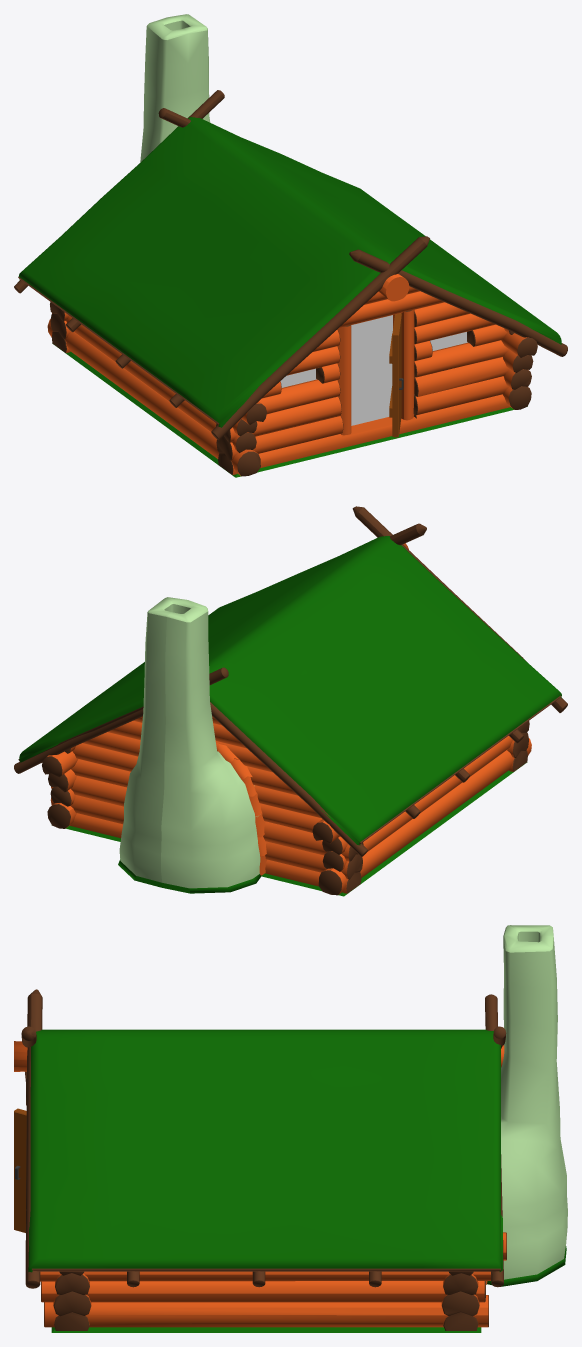
File: izbaa.fbx
3 renders of one model, top to bottom at view 1: azimuth 30°, elevation 25°; view 2: azimuth 150°, elevation 25°; view 3: azimuth 270°, elevation 25°, orthographic. The views are drawn at different scales.
Visible parts, largest first — view 1: roof, wall1, balki, stove, wall3, Plane.002, wall2, дверь.021, wall4; view 2: roof, stove, wall4, wall3, balki, wall2, ceiling, wall1; view 3: roof, wall2, stove, balki, wall4, wall1, ceiling, дверь.021.
Boxes of the visible parts, bbox=[...] form: roof: bbox=[18, 117, 561, 477]; wall1: bbox=[216, 286, 510, 474]; balki: bbox=[14, 90, 567, 440]; stove: bbox=[140, 14, 210, 162]; wall3: bbox=[47, 313, 266, 476]; Plane.002: bbox=[351, 315, 392, 425]; wall2: bbox=[501, 328, 537, 409]; дверь.021: bbox=[389, 313, 403, 437]; wall4: bbox=[50, 274, 409, 352]; roof: bbox=[19, 536, 561, 896]; stove: bbox=[119, 597, 260, 888]; wall4: bbox=[50, 543, 408, 893]; wall3: bbox=[312, 736, 531, 895]; balki: bbox=[14, 506, 567, 856]; wall2: bbox=[42, 746, 78, 828]; ceiling: bbox=[18, 695, 561, 844]; wall1: bbox=[507, 721, 529, 771]; roof: bbox=[28, 1029, 566, 1332]; wall2: bbox=[40, 1232, 506, 1327]; stove: bbox=[501, 925, 567, 1279]; balki: bbox=[21, 989, 506, 1288]; wall4: bbox=[14, 1041, 504, 1330]; wall1: bbox=[53, 1271, 91, 1330]; ceiling: bbox=[32, 1045, 502, 1271]; дверь.021: bbox=[14, 1108, 26, 1232].
Bounding box in the file's own units: 892 × 653 × 1033.
